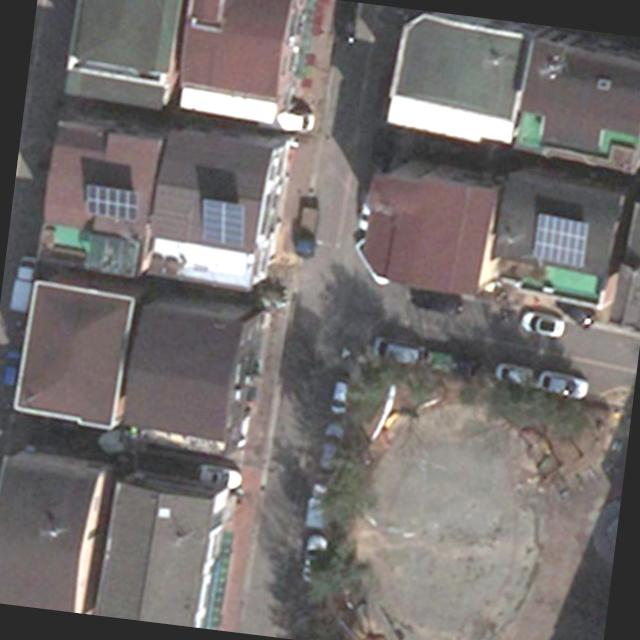solar: (530, 210, 592, 270), (195, 196, 250, 252), (77, 180, 143, 224)
